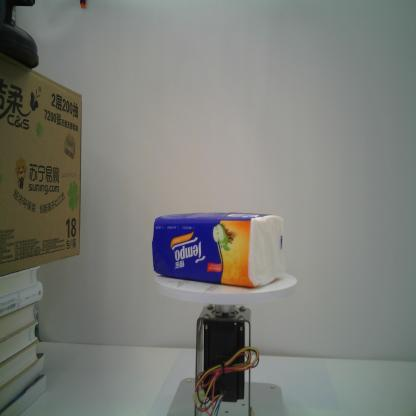Tissue: (151, 211, 285, 288)
